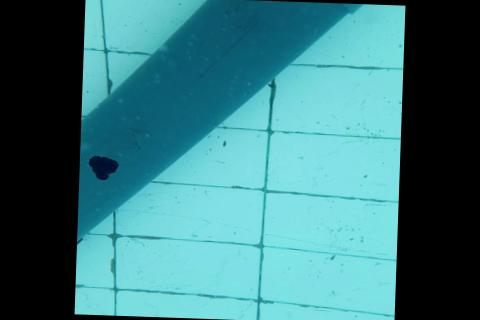kebocoran: (86, 153, 121, 182)
